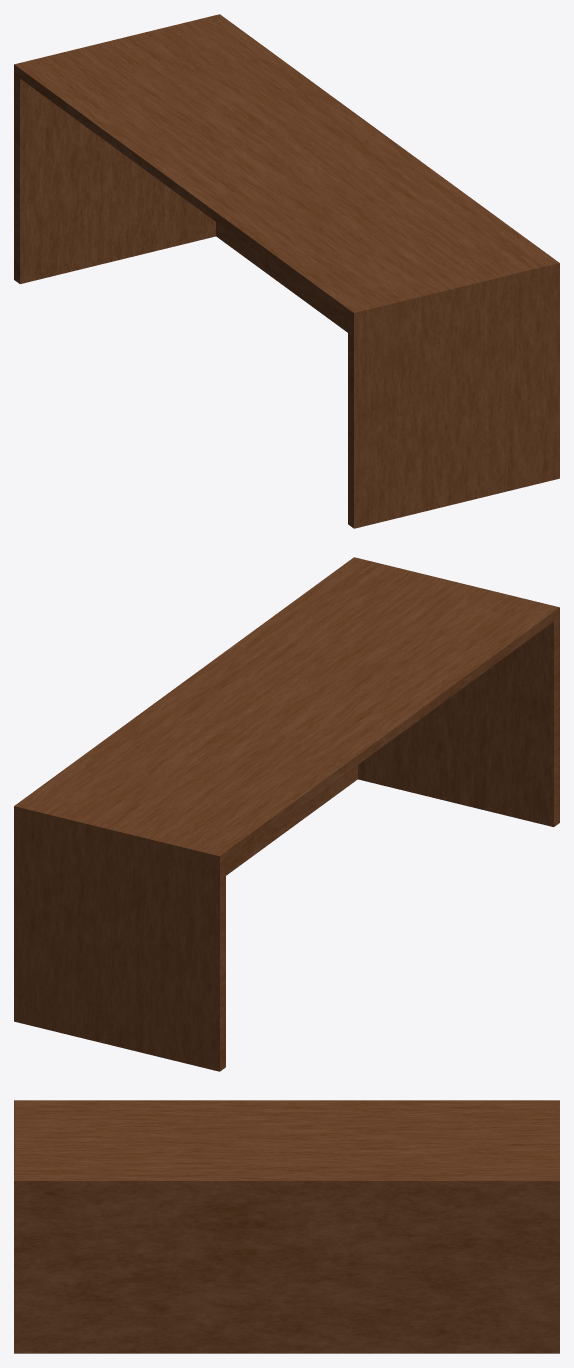
Rendered from desk.glb.
3 renders of one model, top to bottom at view 1: azimuth 30°, elevation 25°; view 2: azimuth 150°, elevation 25°; view 3: azimuth 270°, elevation 25°, orthographic. The views are drawn at different scales.
Visible parts, largest first — view 1: Cube; view 2: Cube; view 3: Cube.
Boxes of the visible parts, x1,y1,x2,y2 form: Cube: (14,14,559,528); Cube: (14,557,559,1071); Cube: (14,1100,559,1353).
Size of the model in its own units: 2 by 2 by 5.72.
1 material, 1 textured.
